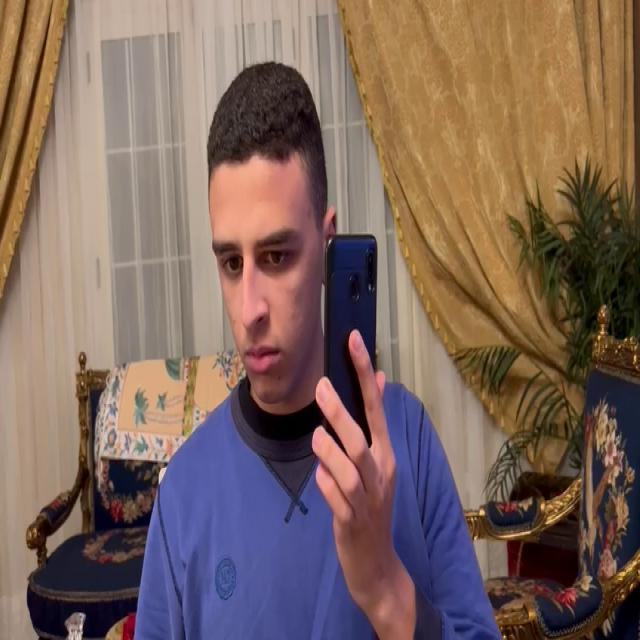phone: (322, 229, 379, 422)
